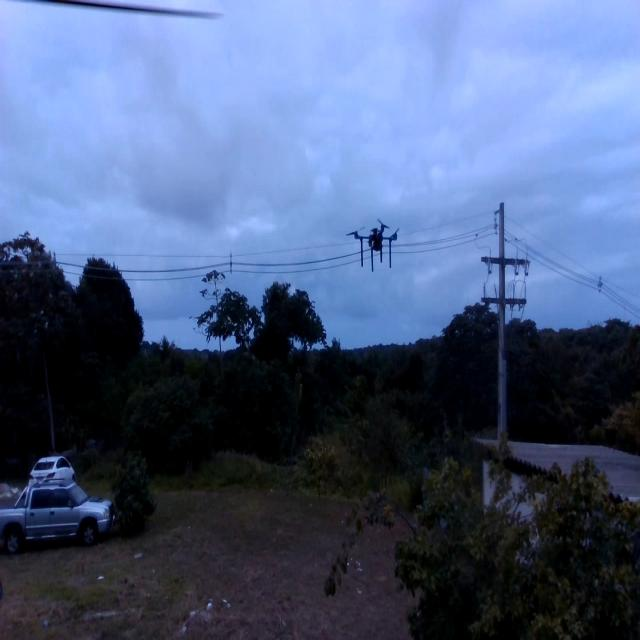-uav-: (342, 208, 406, 278)
